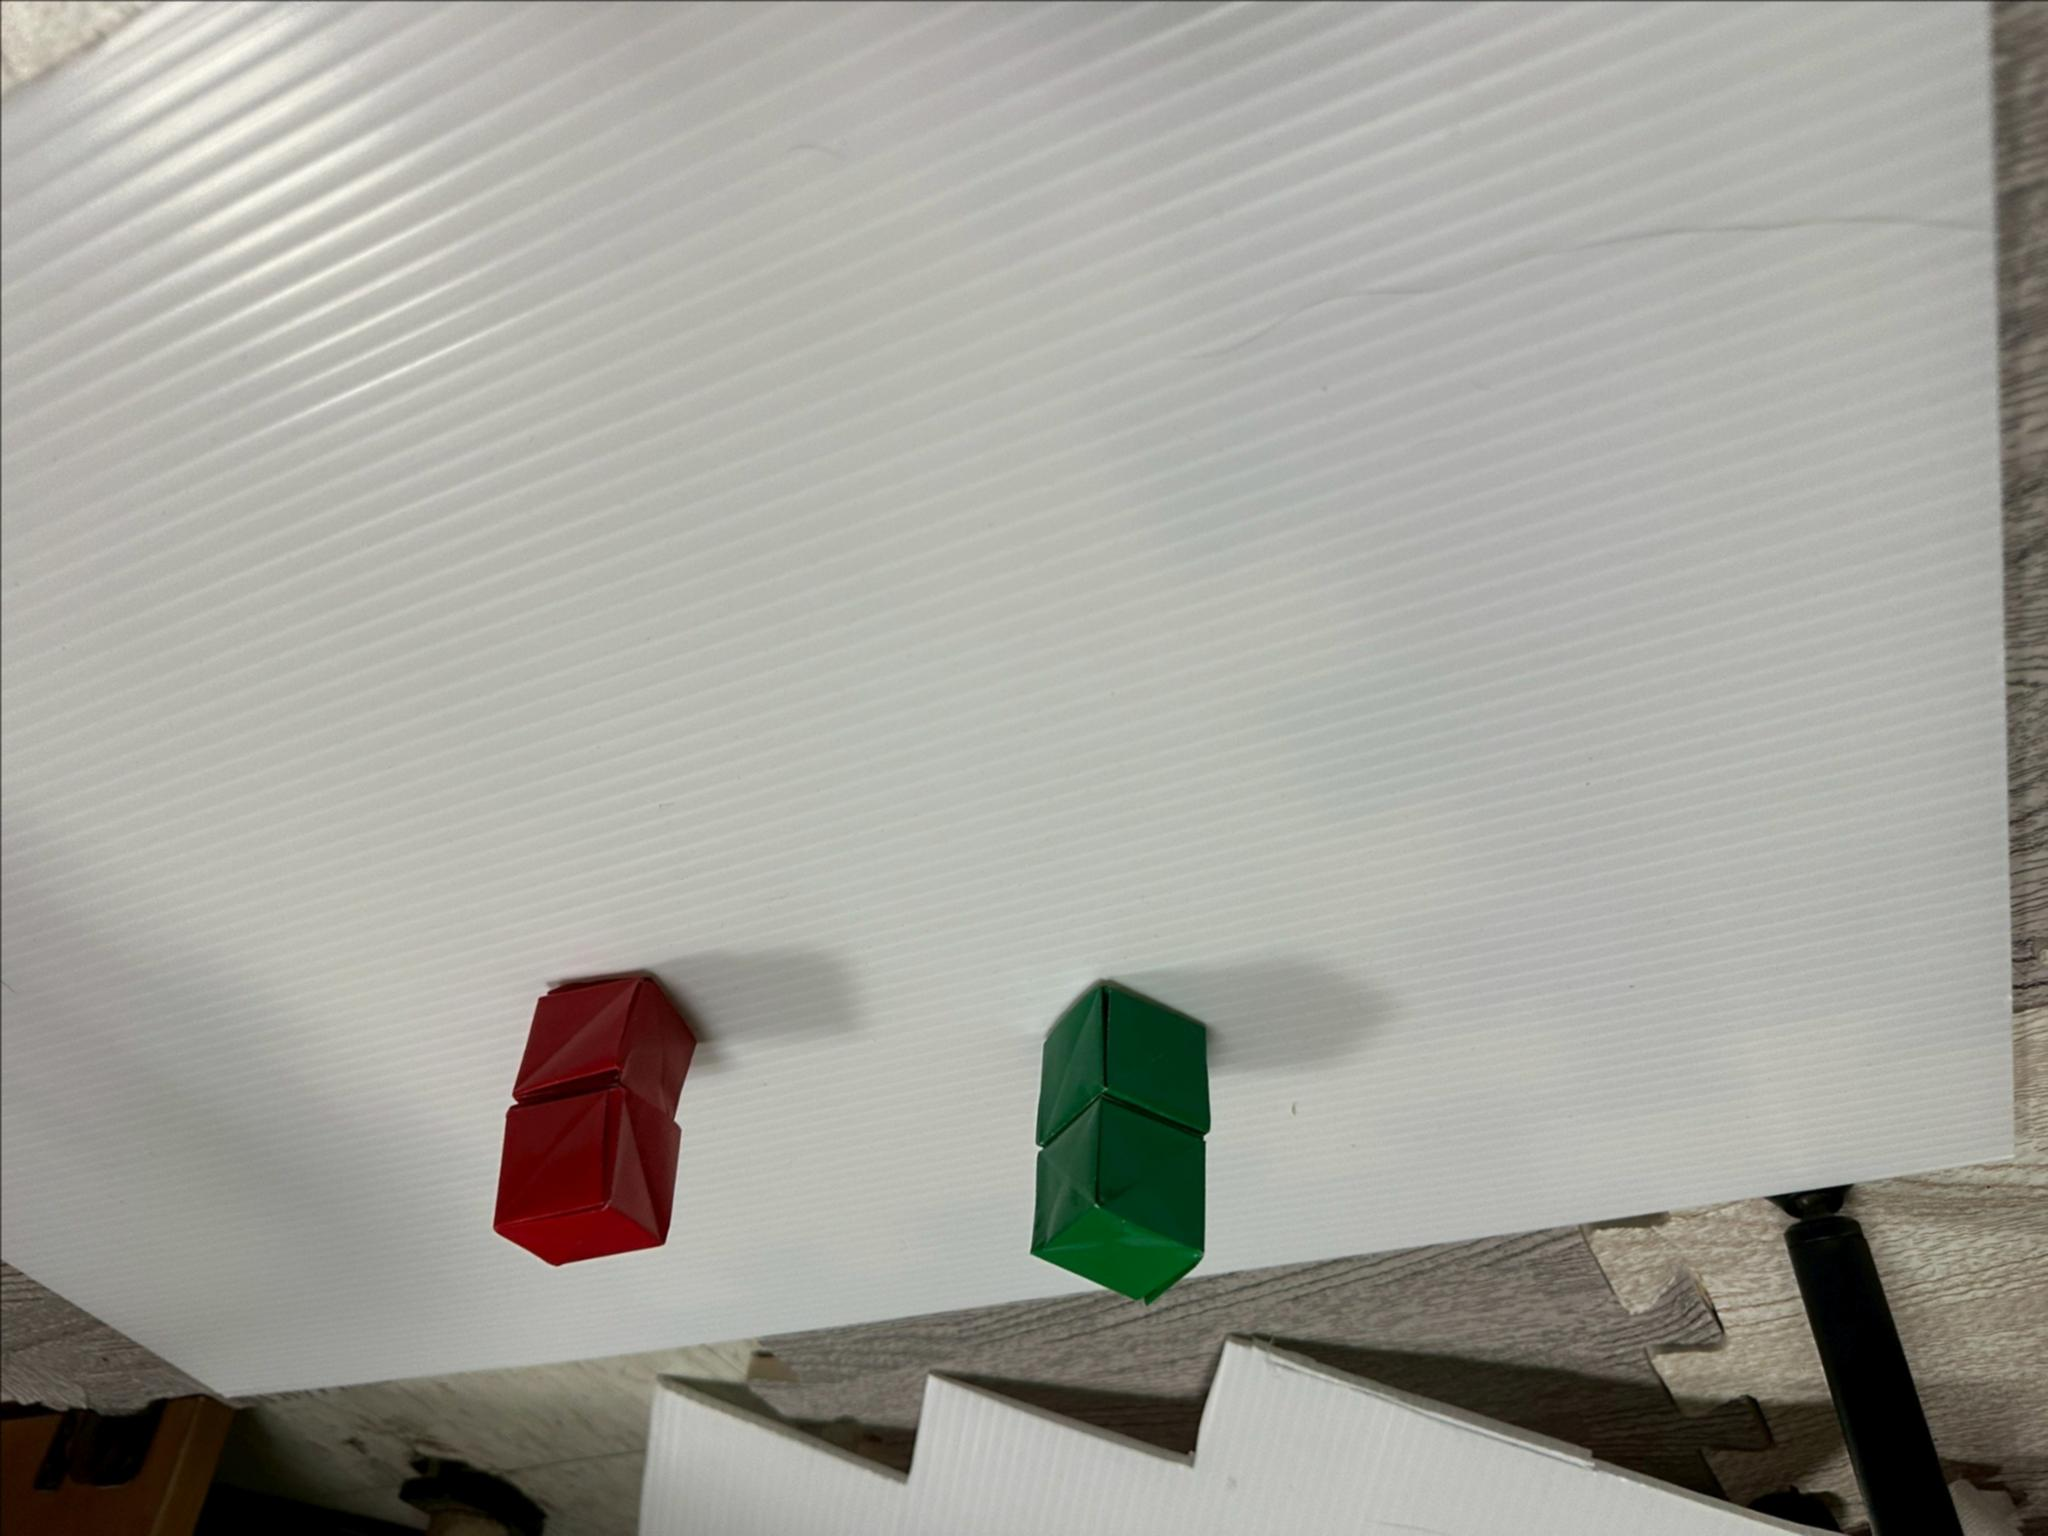base: (1032, 1099, 1203, 1300), (493, 1087, 679, 1263), (1037, 986, 1208, 1147), (513, 976, 693, 1115)
